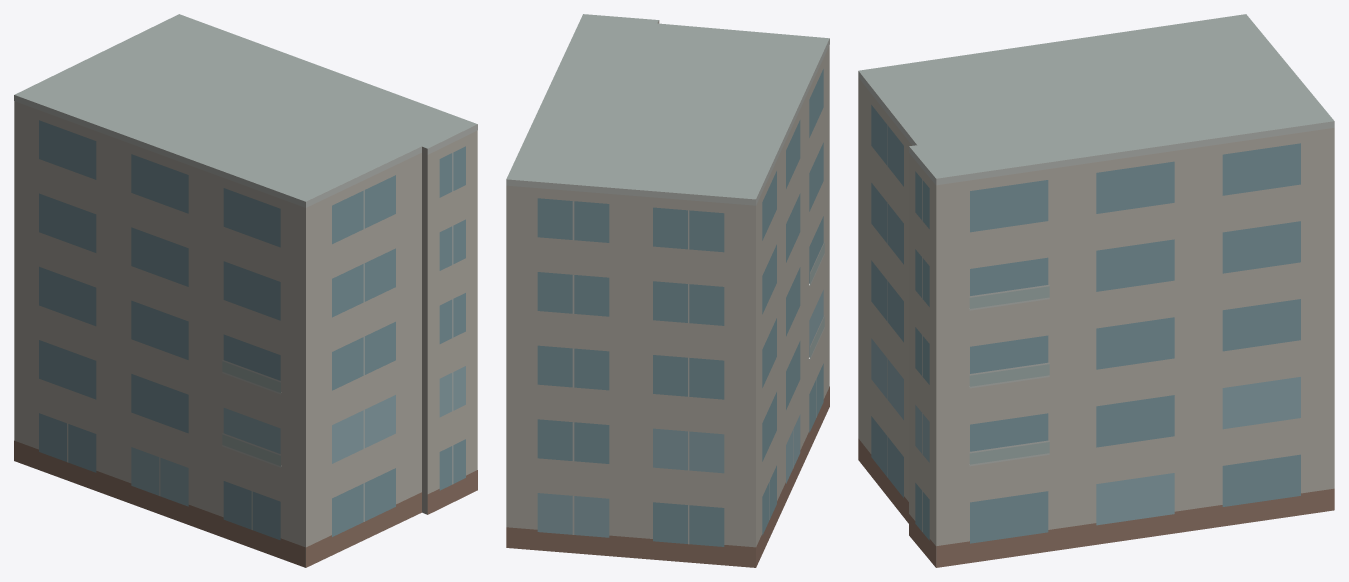
File: survey-upis-32701079.glb
The picture shows the model from 3 angles, left to right: view 1: azimuth 30°, elevation 25°; view 2: azimuth 150°, elevation 25°; view 3: azimuth 270°, elevation 25°; orthographic projection. The views are drawn at different scales.
Parts seen in each view (by area): view 1: survey-upis-32701079.tmp; view 2: survey-upis-32701079.tmp; view 3: survey-upis-32701079.tmp.
Part boxes in pixels (left/top/right/bottom): survey-upis-32701079.tmp: left=14, top=14, right=477, bottom=567; survey-upis-32701079.tmp: left=506, top=14, right=829, bottom=567; survey-upis-32701079.tmp: left=858, top=14, right=1334, bottom=567.
Bounding box in the file's own units: 13.08 × 14.4 × 15.98.
